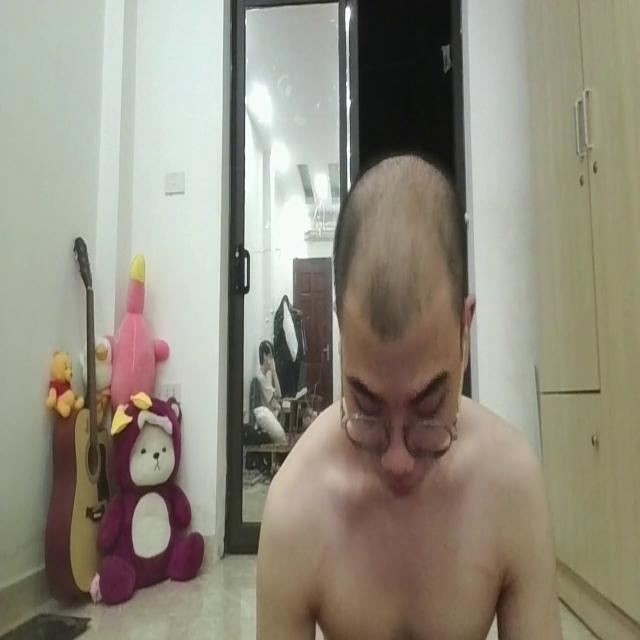extra_person: (255, 335, 318, 413)
student: (250, 153, 570, 640)
